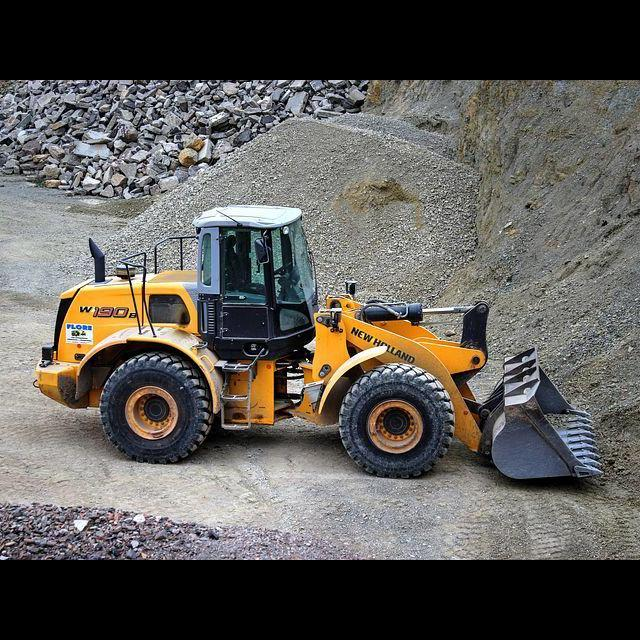wheel loader: (34, 201, 617, 491)
